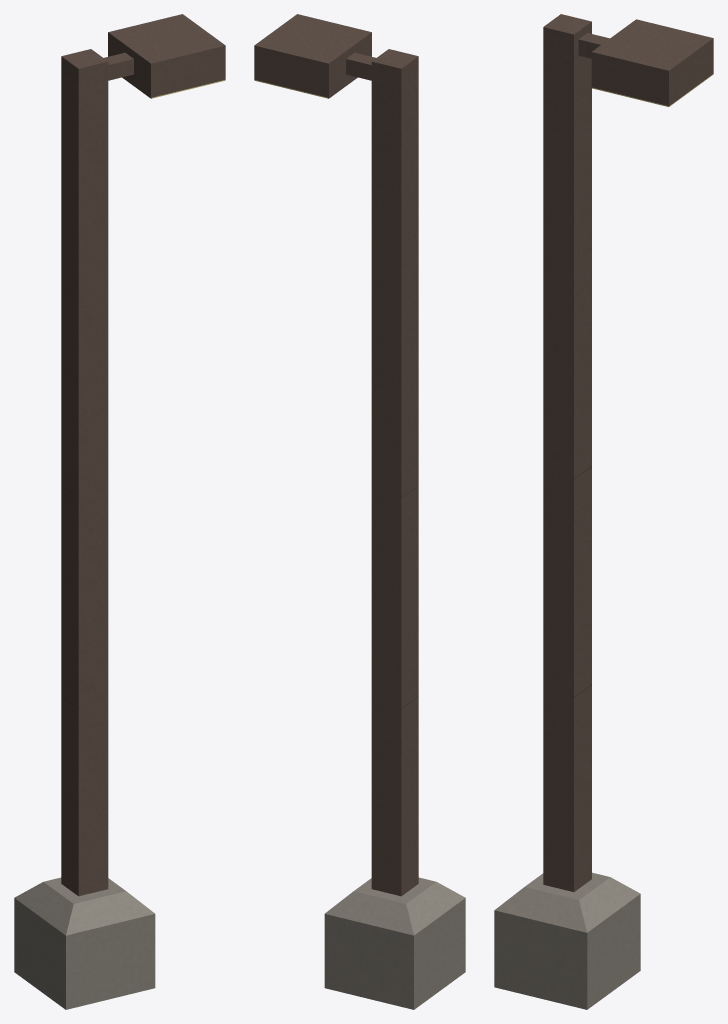
The model's file is lamp.glb.
The picture shows the model from 3 angles, left to right: view 1: azimuth 30°, elevation 25°; view 2: azimuth 150°, elevation 25°; view 3: azimuth 330°, elevation 25°; orthographic projection. The views are drawn at different scales.
Parts seen in each view (by area): view 1: lightPost-col; view 2: lightPost-col; view 3: lightPost-col.
Part boxes in pixels (x1,y1,x2,y2): lightPost-col: (14,14,225,1009); lightPost-col: (254,14,465,1009); lightPost-col: (494,14,713,1009).
Size of the model in its own units: 1.12 by 5.99 by 0.6096.
1 material, 1 textured.
